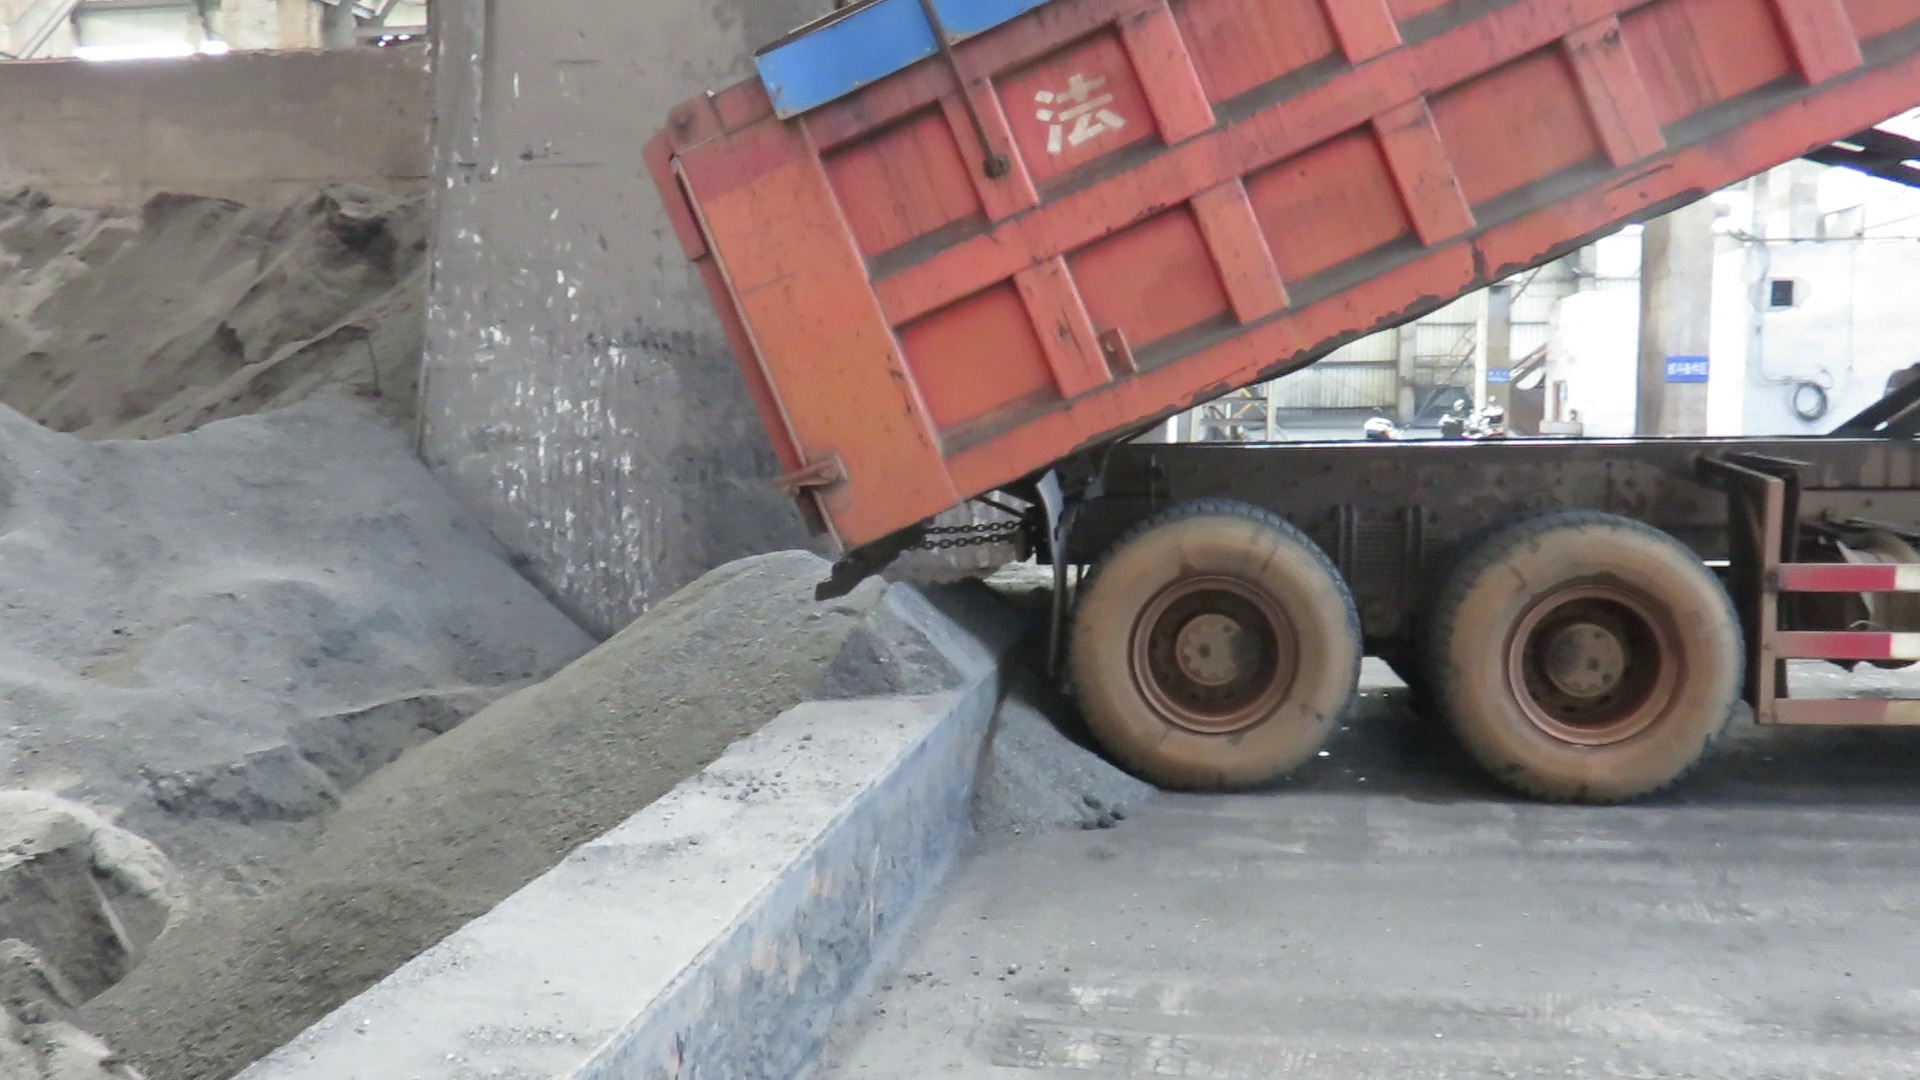truck: (626, 0, 1920, 796)
